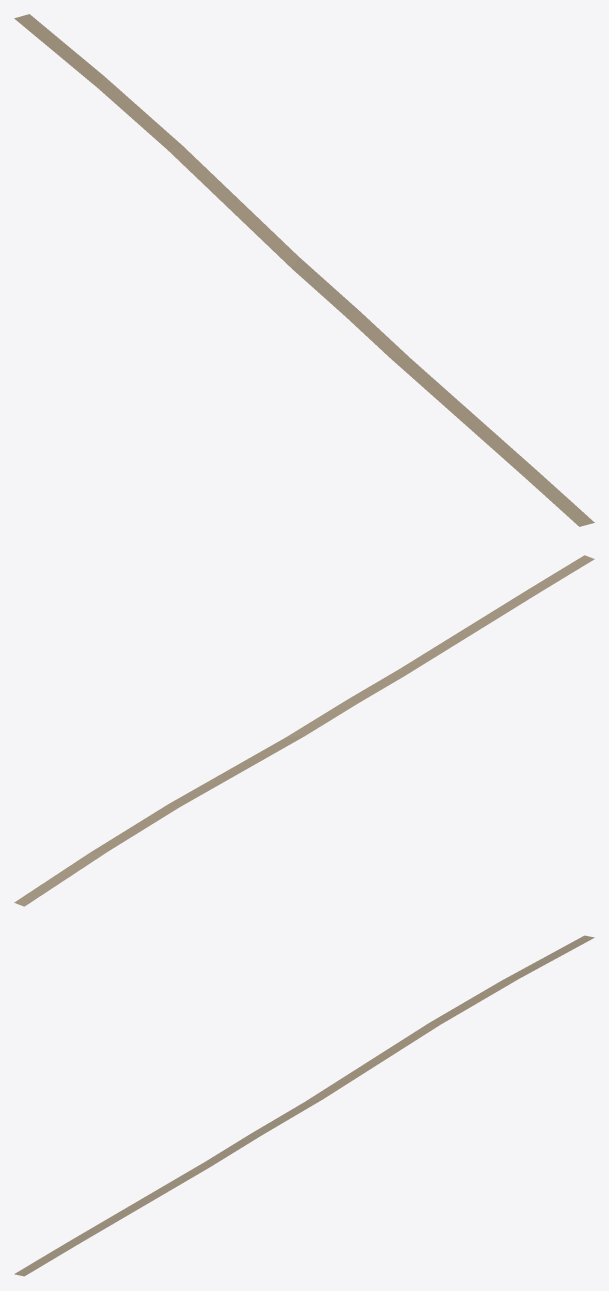
File: farm_31_19_track.glb
3 views of the same model, one above another, from view 1: azimuth 30°, elevation 25°; view 2: azimuth 150°, elevation 25°; view 3: azimuth 330°, elevation 25° (orthographic). The views are drawn at different scales.
Parts seen in each view (by area): view 1: geometry_0; view 2: geometry_0; view 3: geometry_0.
Part boxes in pixels (<box>): geometry_0: <box>14,14,594,526</box>; geometry_0: <box>14,555,594,906</box>; geometry_0: <box>14,935,594,1276</box>.
Bounding box in the file's own units: 26 × 1.89 × 255.
